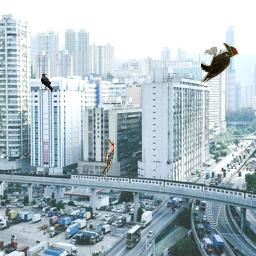Crow: (41, 73, 53, 92)
Woodpecker: (201, 43, 238, 83), (102, 139, 114, 174)
